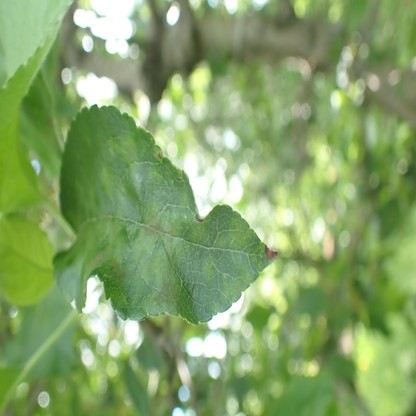frogeye_leaf_spot: (264, 246, 277, 259)
scab: (142, 204, 179, 252), (148, 271, 181, 313), (84, 245, 111, 283), (225, 215, 248, 249), (77, 183, 97, 219), (98, 217, 122, 240), (120, 135, 136, 168), (99, 169, 114, 203), (188, 222, 207, 248), (109, 261, 126, 283), (202, 257, 215, 282), (151, 252, 167, 271), (156, 151, 163, 162)
